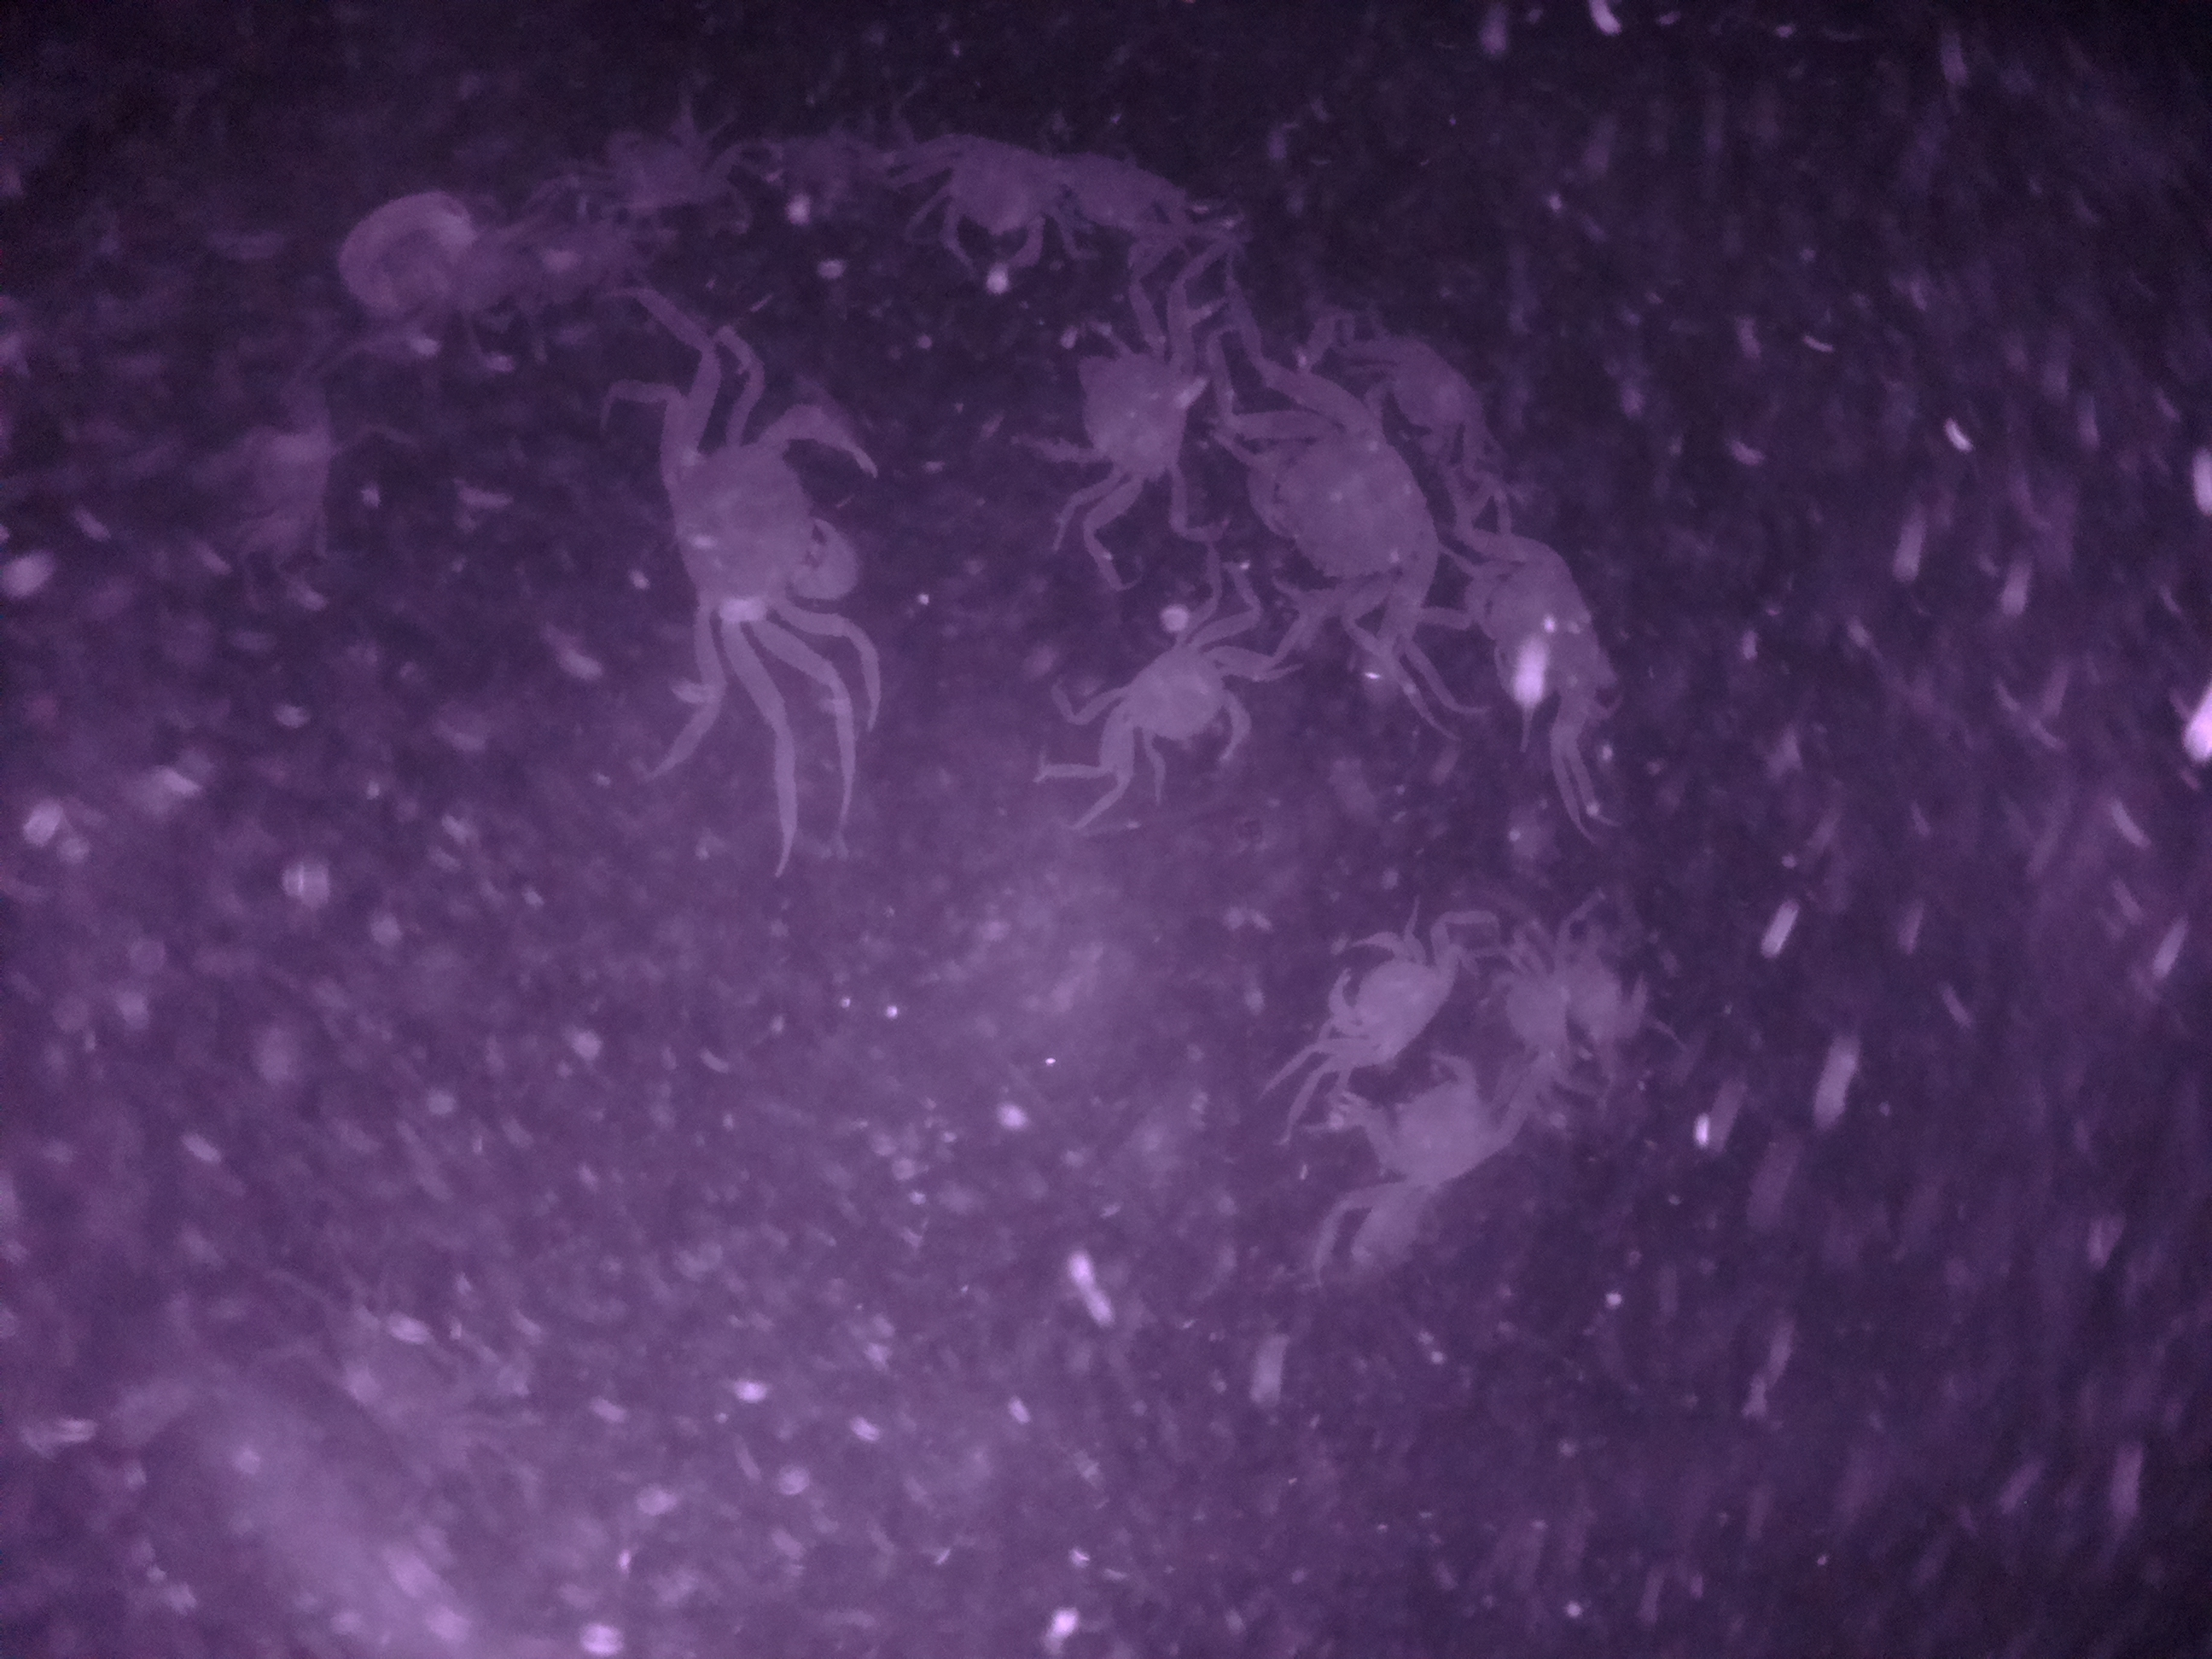Crab: (1211, 354, 1475, 687), (620, 385, 911, 683), (1021, 303, 1235, 497), (1089, 620, 1275, 810), (895, 118, 1090, 286), (1348, 1042, 1524, 1222), (1282, 911, 1453, 1082), (1343, 308, 1512, 474)
